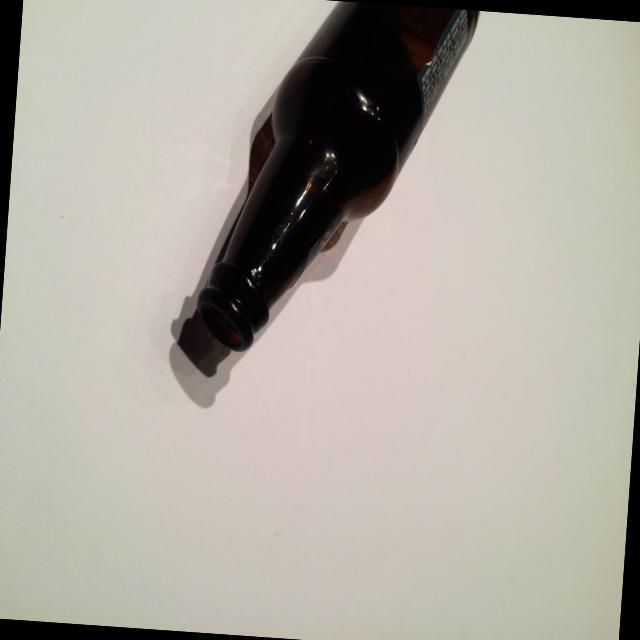Glass: (162, 0, 487, 402)
